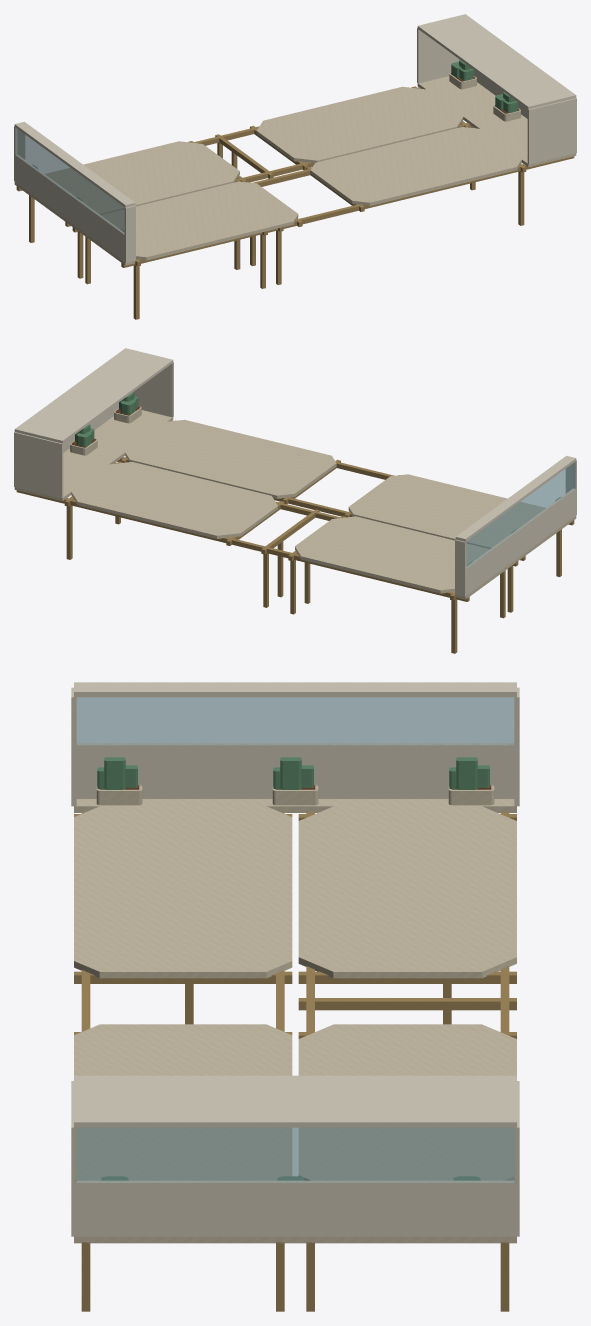
The model's file is D04_PORT_FORWARD_HOMES_SECOND_RECEIVING_r001.glb.
3 views of the same model, one above another, from view 1: azimuth 30°, elevation 25°; view 2: azimuth 150°, elevation 25°; view 3: azimuth 270°, elevation 25° (orthographic). The views are drawn at different scales.
Parts seen in each view (by area): view 1: D04H940_Floor, D04H964_Floor, D04H928_Floor, D04H952_Floor, D04HC2_east_Roof, D04HC2_east_Floor, D04HC2_west_PrivacyScreen, D04HC2_west_GlassUpper, D04HC2_east_End_1, D04HC2_west_Roof, D04H2_SharedTransfer_1, D04HC2_east_End_0 (+6 smaller); view 2: D04H964_Floor, D04H940_Floor, D04H952_Floor, D04H928_Floor, D04HC2_east_Roof, D04HC2_east_Floor, D04HC2_west_PrivacyScreen, D04HC2_west_GlassUpper, D04HC2_east_End_0, D04H2_SharedTransfer_2, D04HC2_west_Roof, D04HC2_east_End_1 (+6 smaller); view 3: D04H928_Floor, D04H952_Floor, D04HC2_east_PrivacyScreen, D04HC2_east_GlassUpper, D04HC2_east_Roof, D04H940_Floor, D04H964_Floor, D04HC2_west_GlassUpper, D04HC2_west_PrivacyScreen, D04HC2_west_Roof, D04HC2_east_Floor, D04HC2_west_Floor (+6 smaller).
Part boxes in pixels (x1,y1,x2,y2): D04H940_Floor: (310,127,521,205); D04H964_Floor: (256,86,463,163); D04H928_Floor: (101,181,298,260); D04H952_Floor: (45,141,239,214); D04HC2_east_Roof: (417,14,576,109); D04HC2_east_Floor: (417,76,576,167); D04HC2_west_PrivacyScreen: (14,154,125,261); D04HC2_west_GlassUpper: (15,127,124,234); D04HC2_east_End_1: (527,98,576,164); D04HC2_west_Roof: (14,121,135,207); D04H2_SharedTransfer_1: (121,156,574,267); D04HC2_east_End_0: (417,28,459,83); D04H964_Floor: (71,462,277,538); D04H940_Floor: (125,419,336,498); D04H952_Floor: (295,516,489,593); D04H928_Floor: (348,474,545,548); D04HC2_east_Roof: (14,348,173,443); D04HC2_east_Floor: (14,410,173,501); D04HC2_west_PrivacyScreen: (465,488,576,595); D04HC2_west_GlassUpper: (466,461,575,568); D04HC2_east_End_0: (14,432,63,498); D04H2_SharedTransfer_2: (16,490,469,601); D04HC2_west_Roof: (455,455,576,541); D04HC2_east_End_1: (133,362,173,417); D04H928_Floor: (74,806,292,978); D04H952_Floor: (298,806,516,978); D04HC2_east_PrivacyScreen: (74,1180,516,1236); D04HC2_east_GlassUpper: (74,1127,516,1182); D04HC2_east_Roof: (74,1075,516,1127); D04H940_Floor: (74,1024,292,1180); D04H964_Floor: (298,1024,516,1180); D04HC2_west_GlassUpper: (76,697,514,745); D04HC2_west_PrivacyScreen: (76,743,514,798); D04HC2_west_Roof: (74,682,516,697); D04HC2_east_Floor: (74,1236,516,1243); D04HC2_west_Floor: (74,799,516,812).
Bounding box in the file's own units: 34.3 × 8.66 × 14.78.
Materials: 6 (4 with a texture image).
